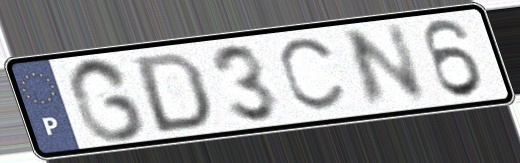3: (209, 40, 282, 125)
6: (420, 17, 487, 100)
C: (275, 34, 350, 115)
D: (132, 49, 214, 136)
G: (64, 55, 150, 145)
N: (340, 20, 432, 113)
